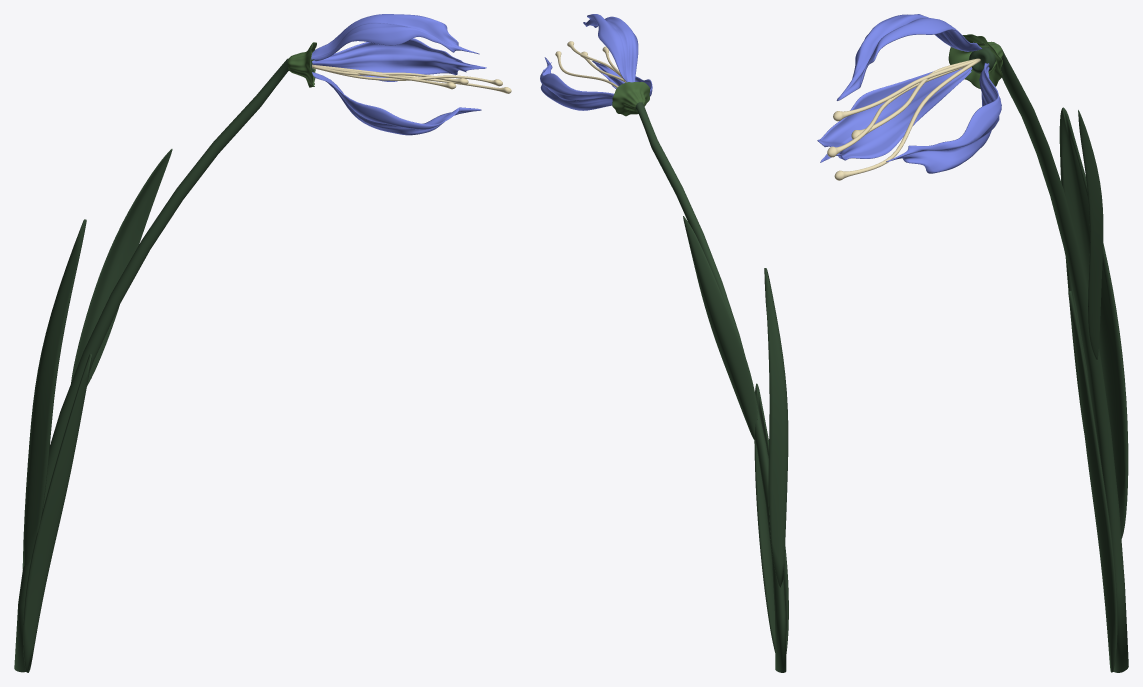
The model's file is SM_Iris_Small_Bend1.fbx.
3 renders of one model, left to right at view 1: azimuth 30°, elevation 25°; view 2: azimuth 150°, elevation 25°; view 3: azimuth 270°, elevation 25°, orthographic. The views are drawn at different scales.
Parts seen in each view (by area): view 1: SM_Flower_Iris_Small_Bend1; view 2: SM_Flower_Iris_Small_Bend1; view 3: SM_Flower_Iris_Small_Bend1.
Boxes of the visible parts, x1,y1,x2,y2 form: SM_Flower_Iris_Small_Bend1: [14, 14, 511, 672]; SM_Flower_Iris_Small_Bend1: [540, 14, 788, 672]; SM_Flower_Iris_Small_Bend1: [817, 14, 1128, 672].
Size of the model in its own units: 97.81 by 157 by 53.32.
